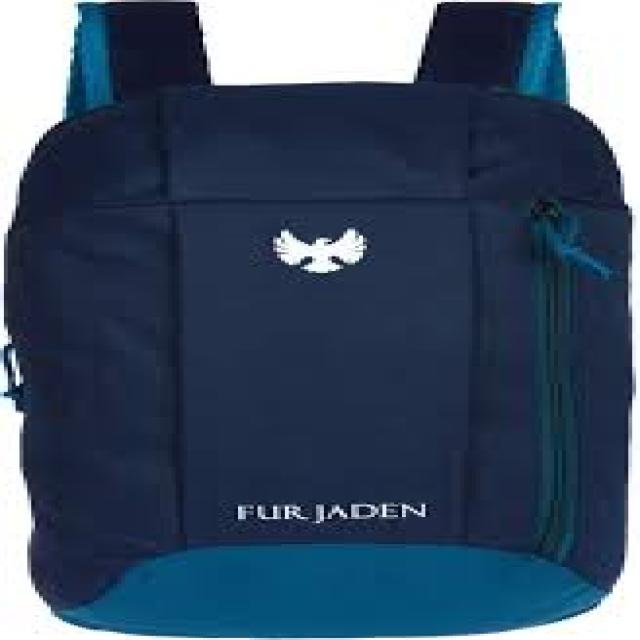backpack: (1, 1, 633, 637)
